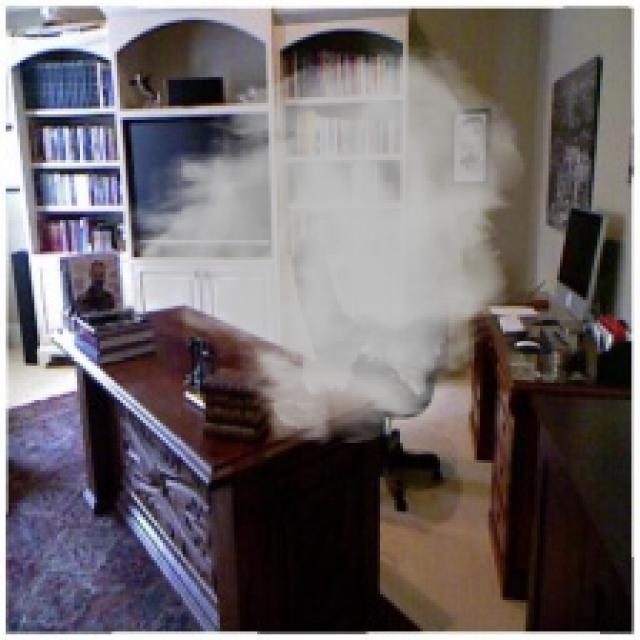smoke: (109, 43, 528, 448)
